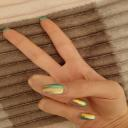PeaceSign: (2, 15, 124, 124)
